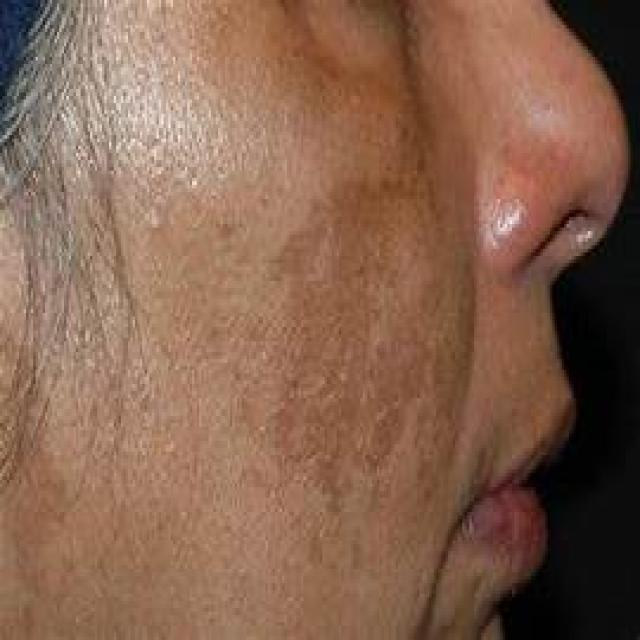pigmentation: (273, 208, 428, 458)
